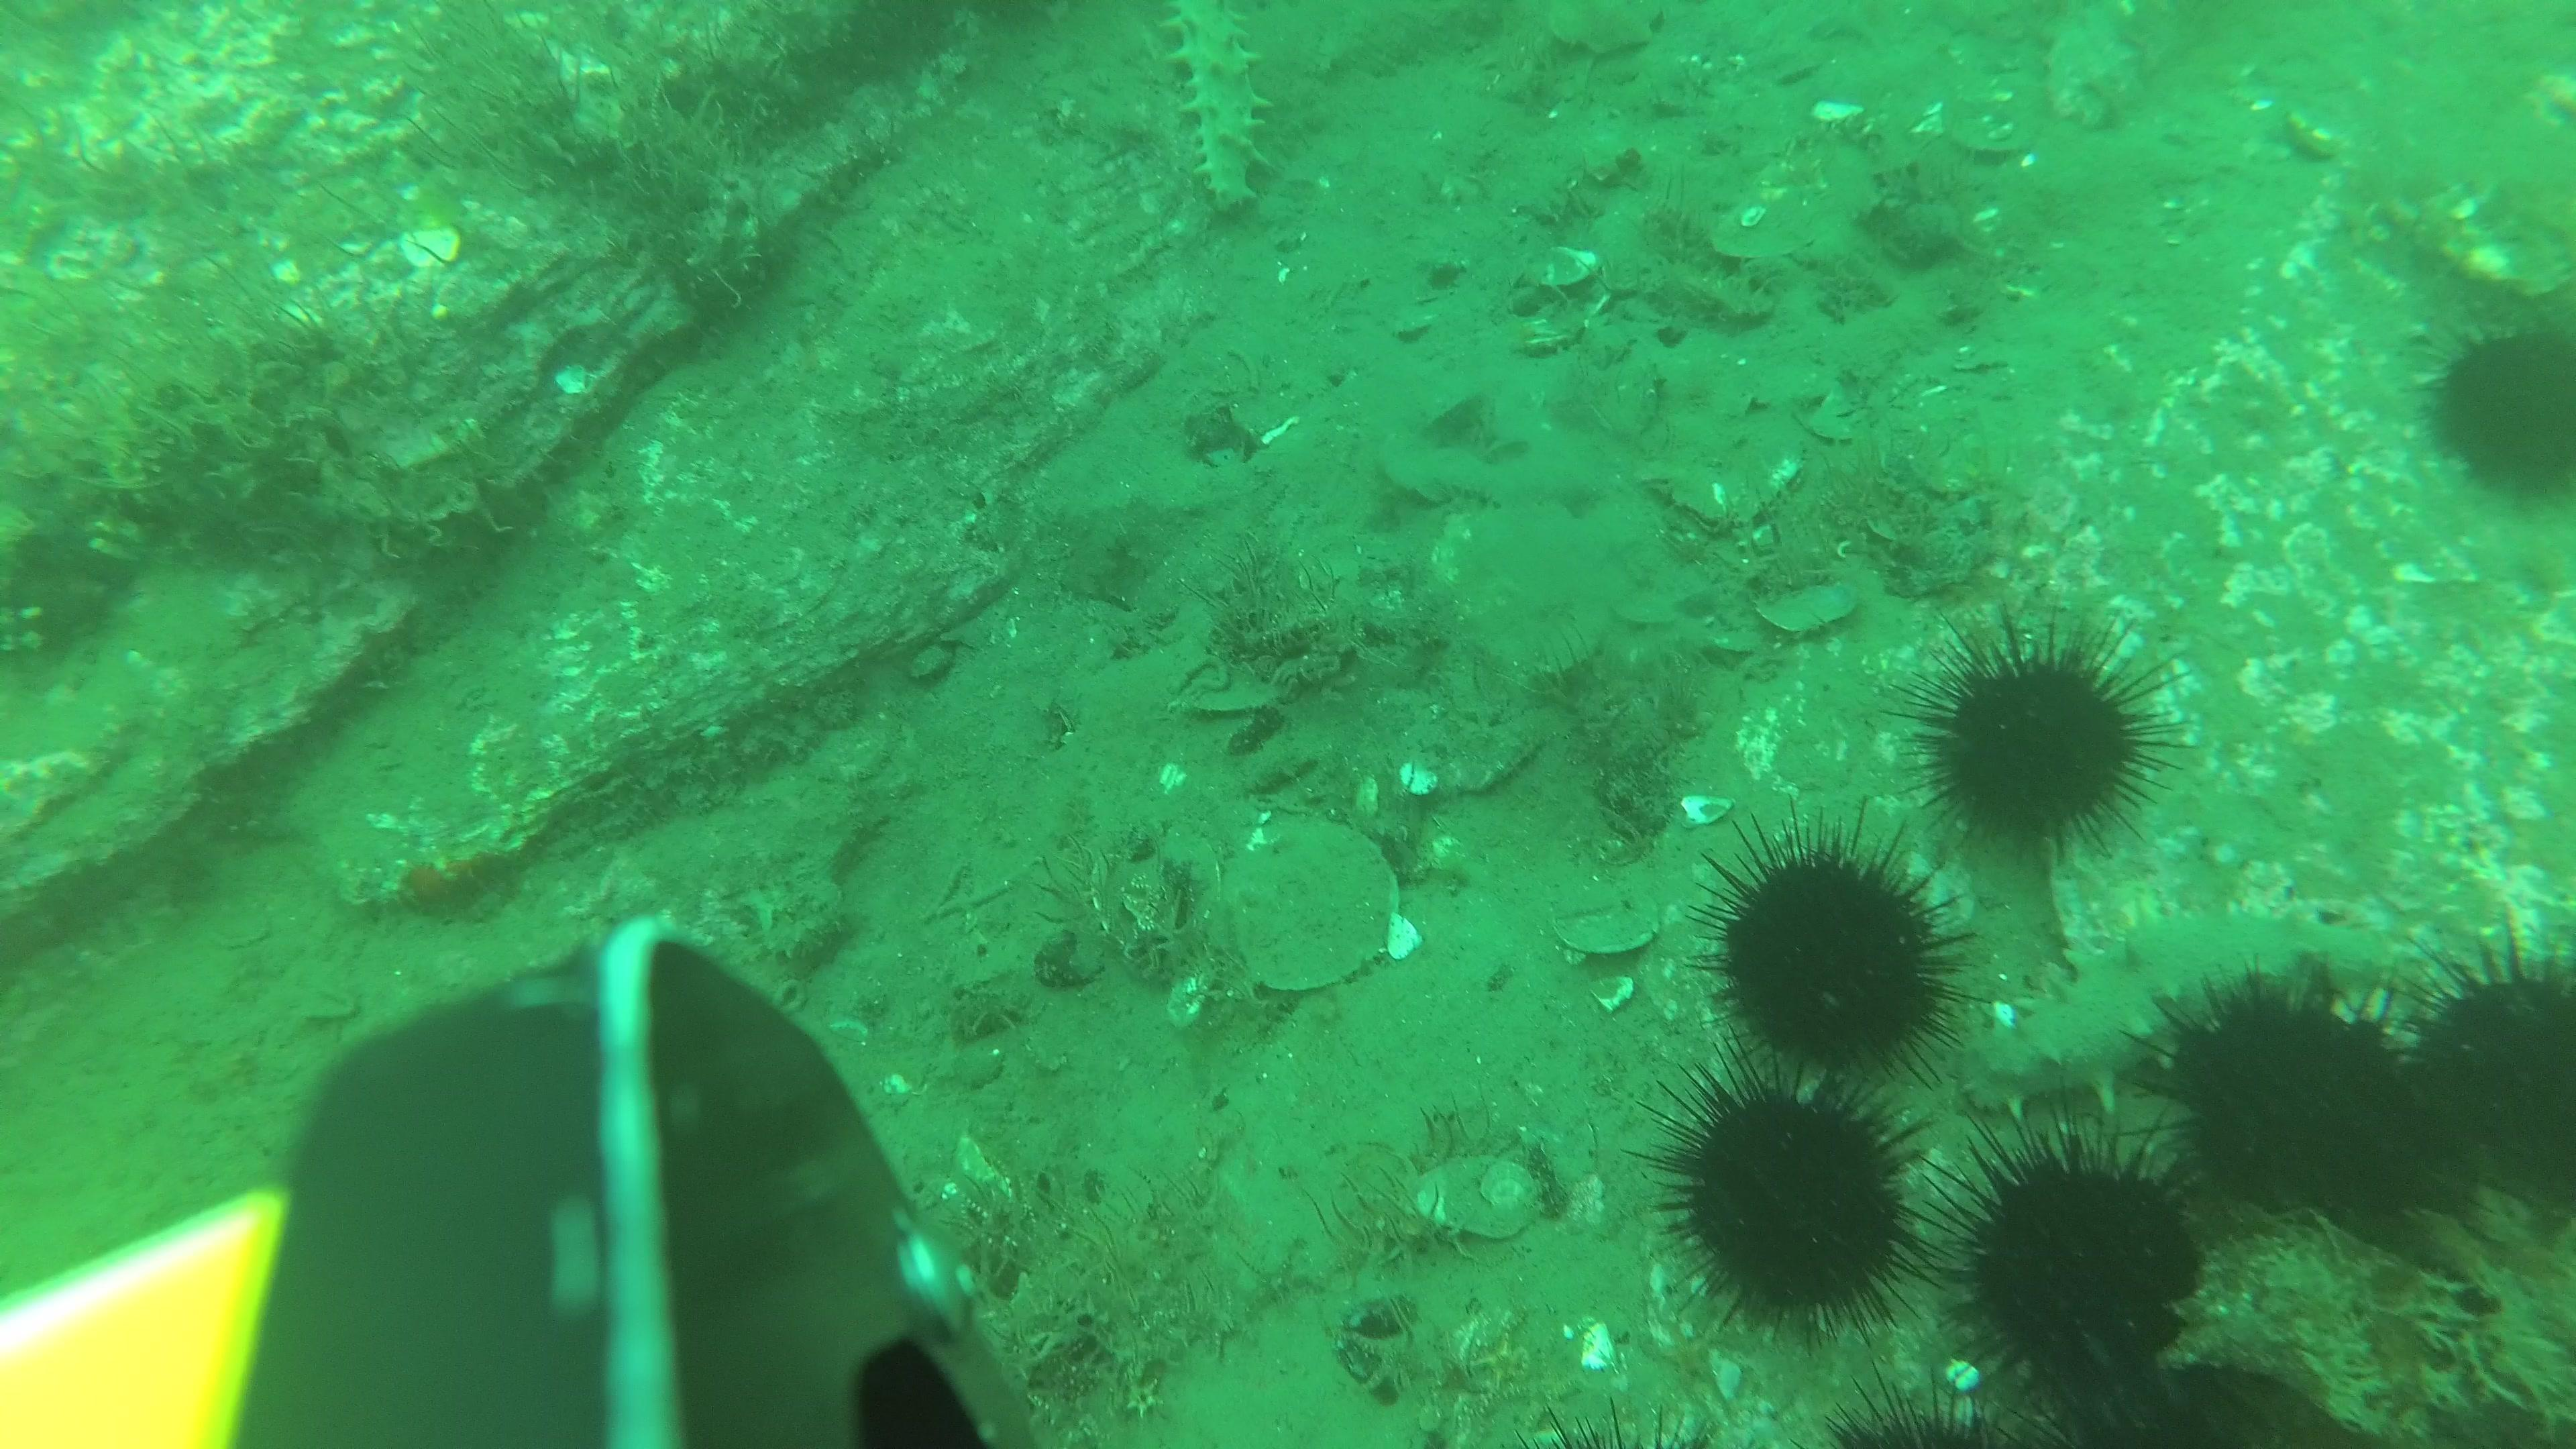echinus: (1633, 1046, 1936, 1350), (1690, 801, 1987, 1104), (2128, 959, 2427, 1233), (1886, 600, 2190, 858), (1944, 1118, 2201, 1408), (2399, 920, 2576, 1230), (2419, 308, 2576, 517), (1815, 1359, 2013, 1449), (2031, 1384, 2249, 1449), (1506, 1401, 1725, 1449)
holothurian: (1962, 918, 2394, 1122), (1159, 0, 1274, 203)
scallop: (1221, 821, 1401, 994), (1421, 1154, 1543, 1244), (1550, 883, 1661, 957), (1546, 0, 1665, 64)
